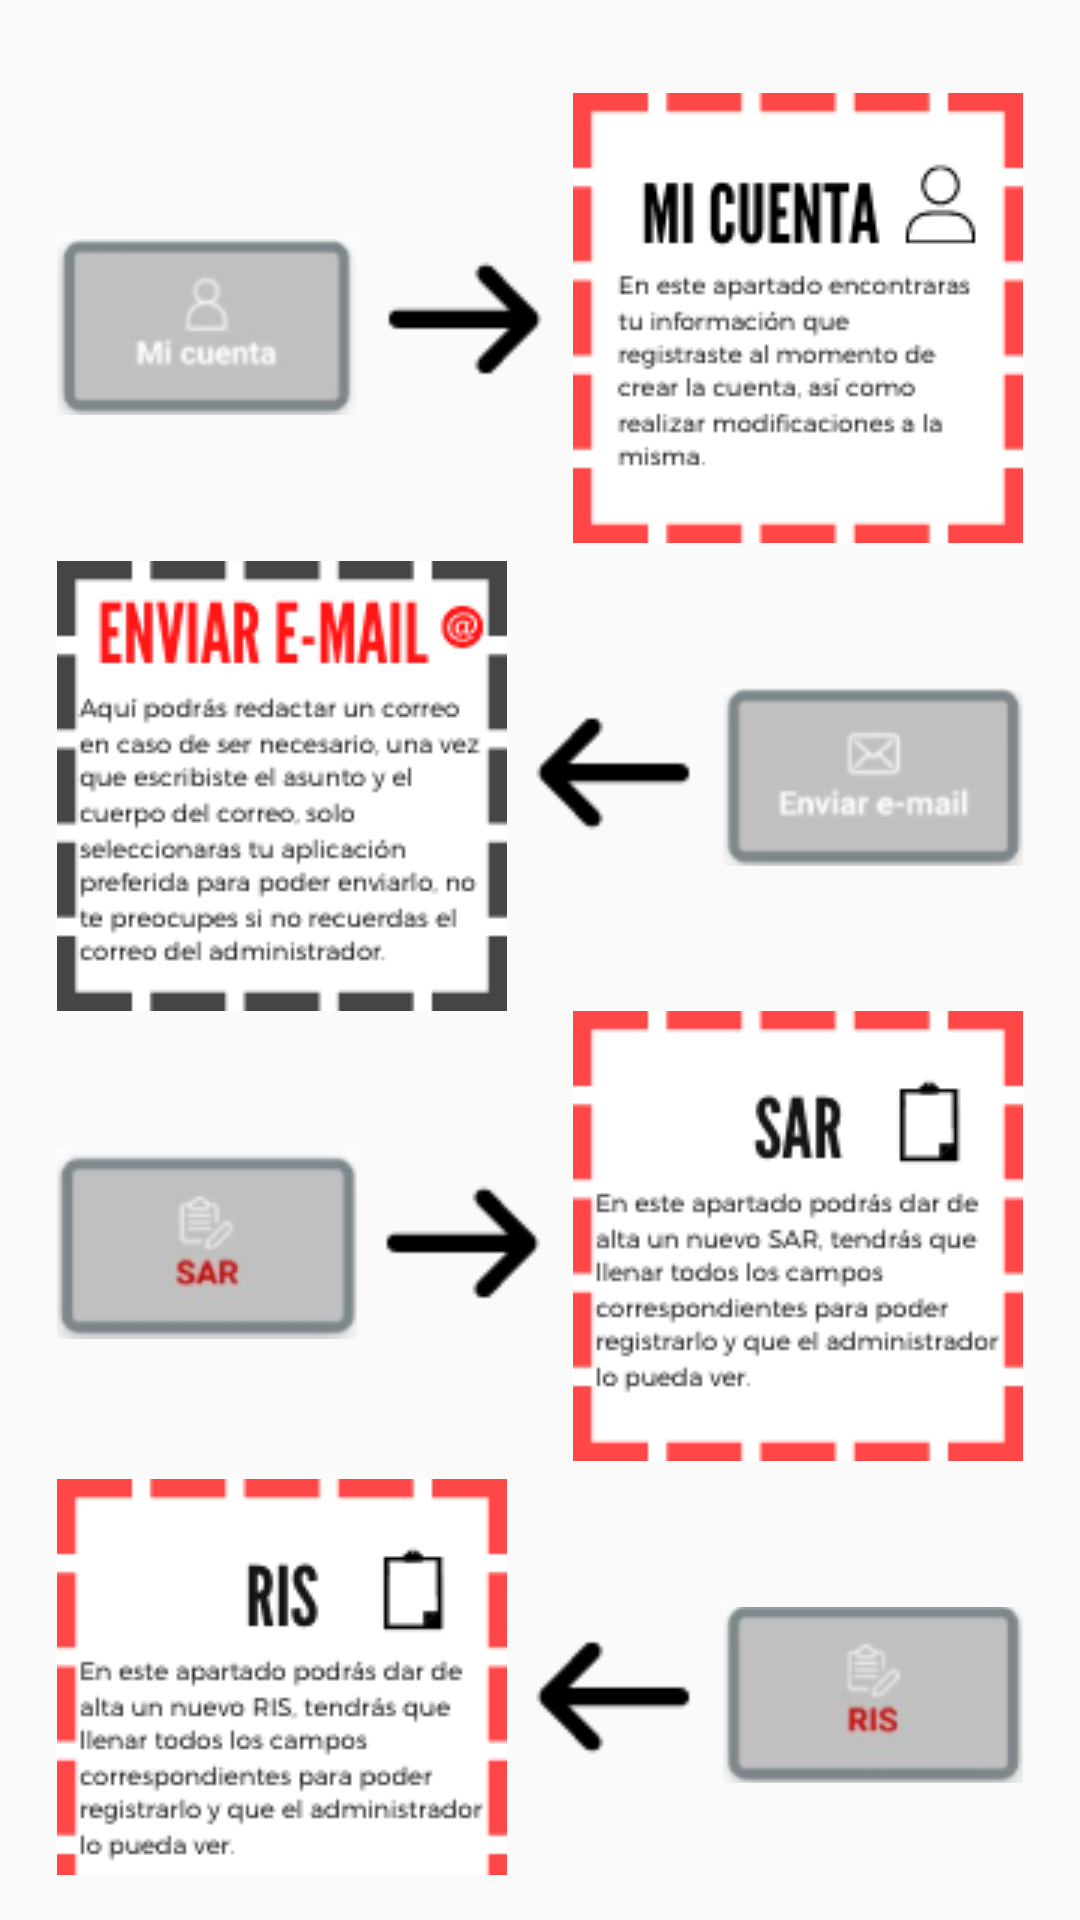

Point at icon controls on the screen. Image size 1080w x 1920h, points as [x,y].
left: [588,773], [588,1697]
right: [491,318], [501,1242]
